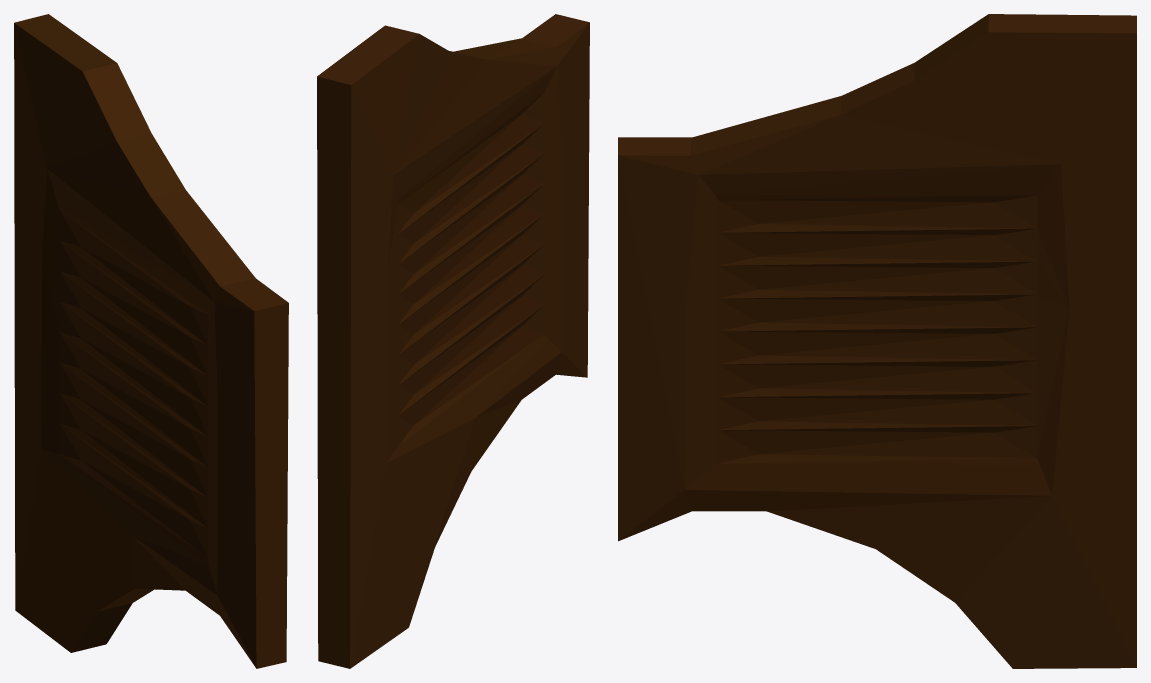
File: Saloon Door.glb
3 views of the same model, side by side, from view 1: azimuth 30°, elevation 25°; view 2: azimuth 150°, elevation 25°; view 3: azimuth 270°, elevation 25° (orthographic). The views are drawn at different scales.
Visible parts, largest first — view 1: Saloon Door; view 2: Saloon Door; view 3: Saloon Door.
Part boxes in pixels (x1,y1,x2,y2): Saloon Door: (14, 14, 288, 668); Saloon Door: (317, 14, 589, 668); Saloon Door: (618, 14, 1136, 668).
Size of the model in its own units: 0.0961 by 1.24 by 0.9144.
